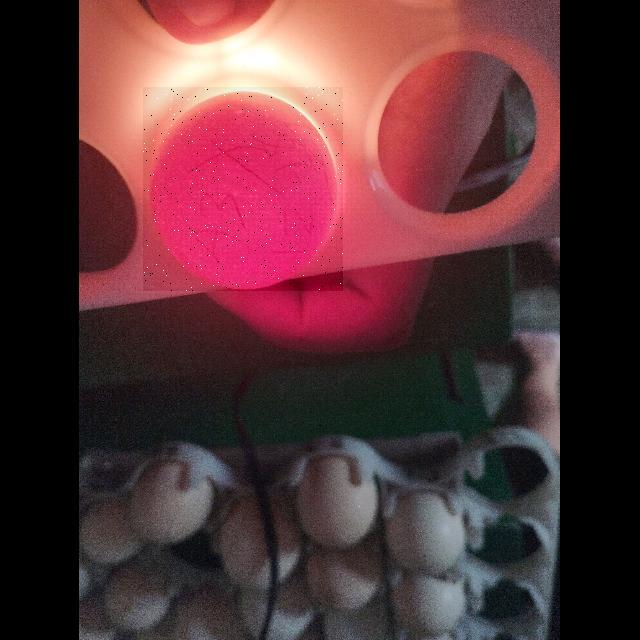Infertile: (143, 87, 343, 291)
